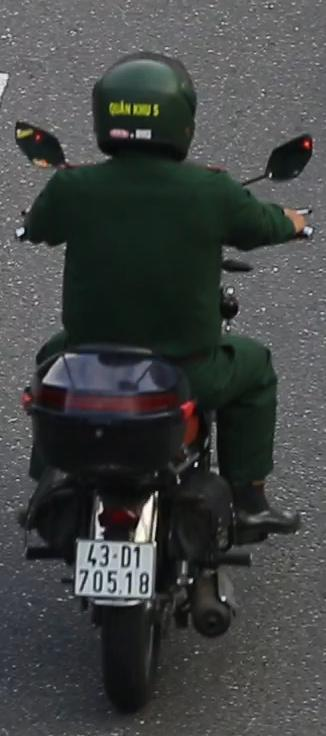LP: (72, 533, 159, 607)
helmet: (83, 49, 202, 179)
